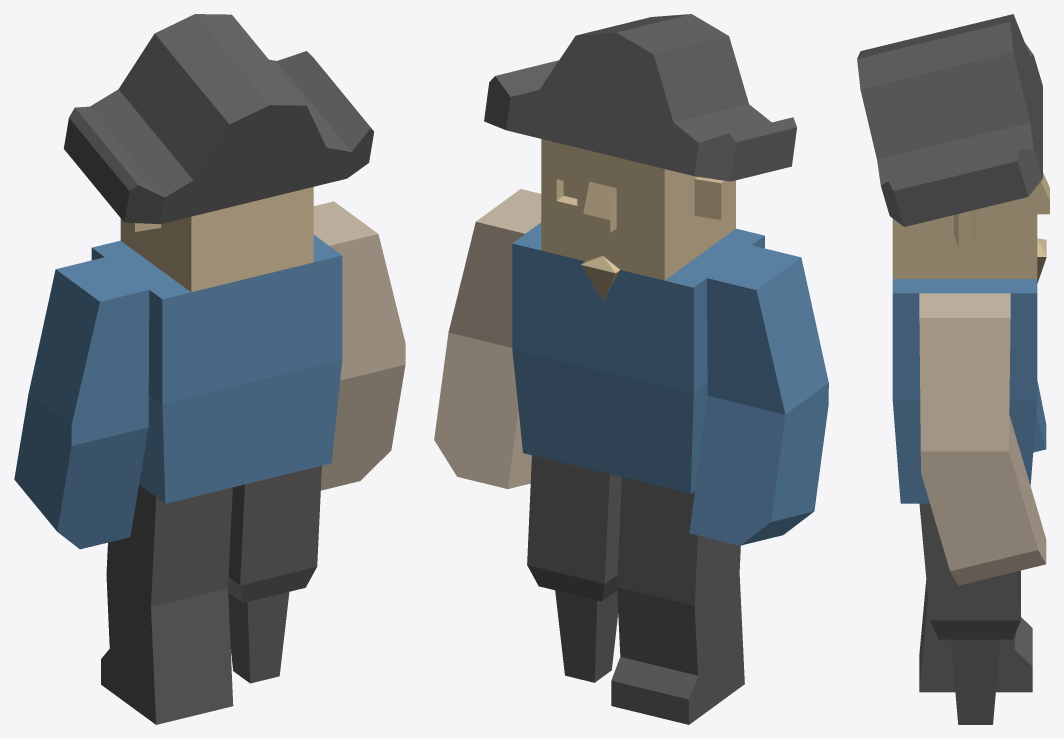
The model's file is pirate_officer.glb.
3 views of the same model, side by side, from view 1: azimuth 30°, elevation 25°; view 2: azimuth 150°, elevation 25°; view 3: azimuth 270°, elevation 25° (orthographic). The views are drawn at different scales.
Parts seen in each view (by area): view 1: Group 85 (×2), body 2, armLeft 2, legLeft 2, armRight 2, legRight 2; view 2: Group 85 (×2), body 2, armLeft 2, legLeft 2, armRight 2, legRight 2; view 3: Group 85 (×2), armRight 2, body 2, legRight 2, legLeft 2, armLeft 2.
Boxes of the visible parts, left/top/right/bottom form: Group 85 (×2): left=63, top=14, right=373, bottom=292; body 2: left=91, top=235, right=342, bottom=503; armLeft 2: left=14, top=257, right=149, bottom=549; legLeft 2: left=101, top=485, right=233, bottom=724; armRight 2: left=313, top=201, right=405, bottom=490; legRight 2: left=228, top=465, right=321, bottom=683; Group 85 (×2): left=484, top=14, right=796, bottom=300; body 2: left=512, top=222, right=764, bottom=493; armLeft 2: left=689, top=245, right=828, bottom=545; legLeft 2: left=611, top=477, right=744, bottom=724; armRight 2: left=434, top=189, right=541, bottom=488; legRight 2: left=527, top=455, right=621, bottom=682; Group 85 (×2): left=857, top=14, right=1049, bottom=283; armRight 2: left=919, top=293, right=1046, bottom=585; body 2: left=892, top=279, right=1037, bottom=503; legRight 2: left=919, top=503, right=1020, bottom=724; legLeft 2: left=919, top=570, right=1032, bottom=692; armLeft 2: left=1033, top=381, right=1046, bottom=452.
Bounding box in the file's own units: 6.24 × 11.75 × 3.05.
